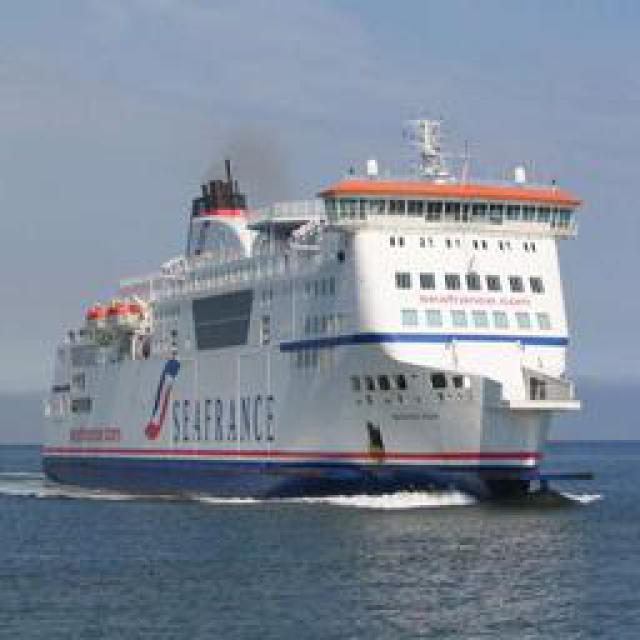Ship: (40, 141, 603, 504)
